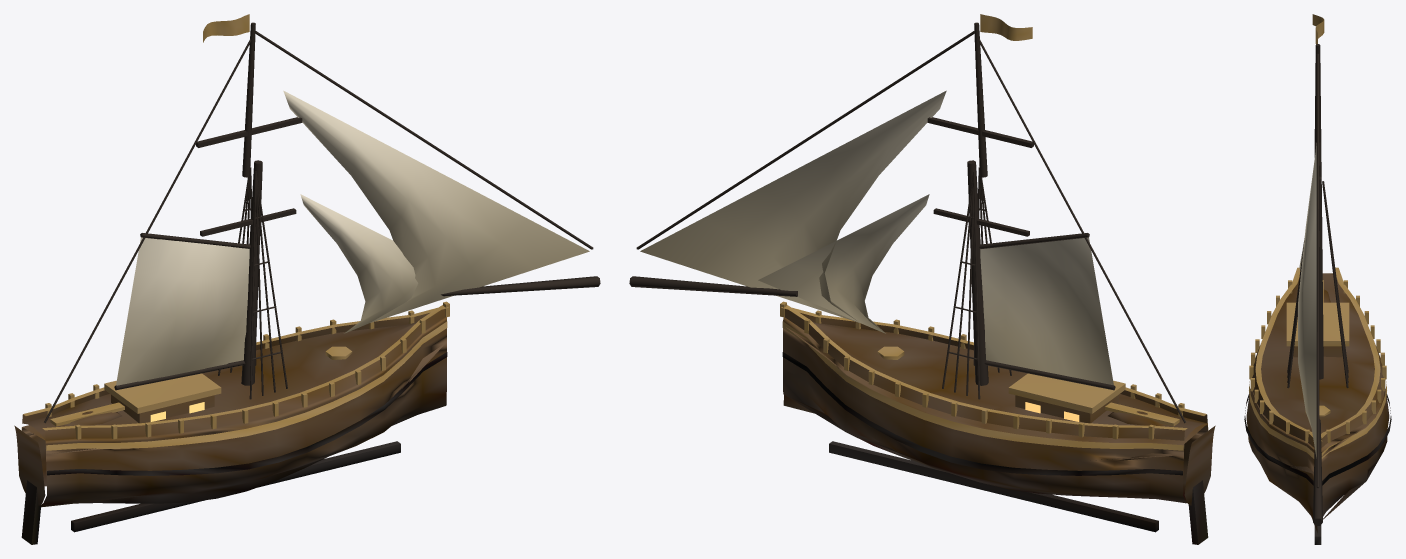
File: garden-hero-cutter.glb
The picture shows the model from 3 angles, left to right: view 1: azimuth 30°, elevation 25°; view 2: azimuth 150°, elevation 25°; view 3: azimuth 270°, elevation 25°; orthographic projection. The views are drawn at different scales.
Parts seen in each view (by area): view 1: wood-hull, sail-hull, spar-hull, trim-hull; view 2: wood-hull, sail-hull, spar-hull, trim-hull; view 3: wood-hull, spar-hull, sail-hull, trim-hull.
Boxes of the visible parts, bbox=[...] form: wood-hull: bbox=[14, 14, 449, 544]; sail-hull: bbox=[116, 90, 589, 385]; spar-hull: bbox=[44, 22, 600, 423]; trim-hull: bbox=[21, 321, 447, 450]; wood-hull: bbox=[780, 14, 1215, 544]; sail-hull: bbox=[640, 90, 1113, 385]; spar-hull: bbox=[629, 22, 1185, 423]; trim-hull: bbox=[782, 321, 1208, 450]; wood-hull: bbox=[1244, 14, 1391, 544]; spar-hull: bbox=[1287, 44, 1348, 525]; sail-hull: bbox=[1298, 143, 1316, 458]; trim-hull: bbox=[1249, 357, 1386, 458].
Size of the model in its own units: 13.32 by 10.54 by 3.17.
